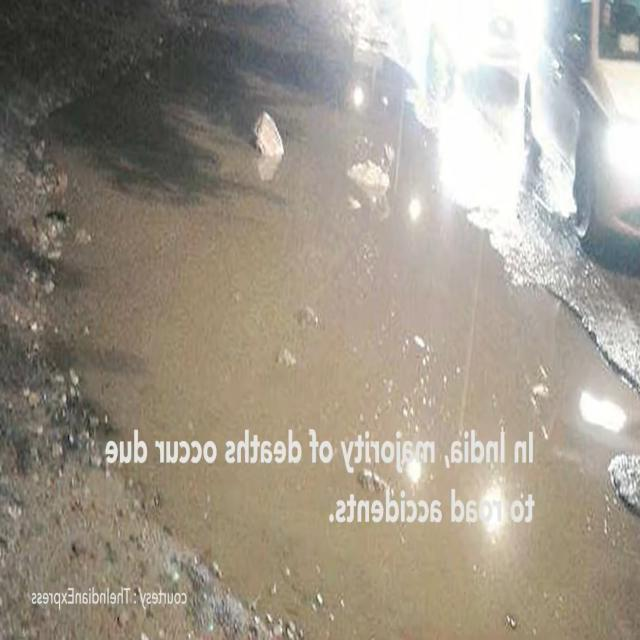Pothole: (26, 34, 624, 625)
